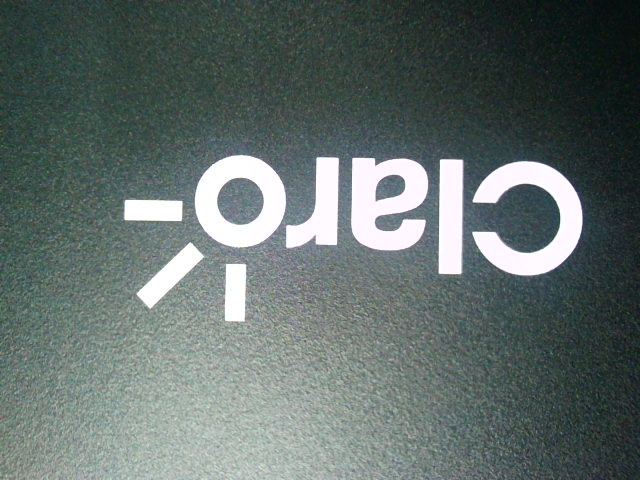BC_Claor: (117, 140, 583, 328)
